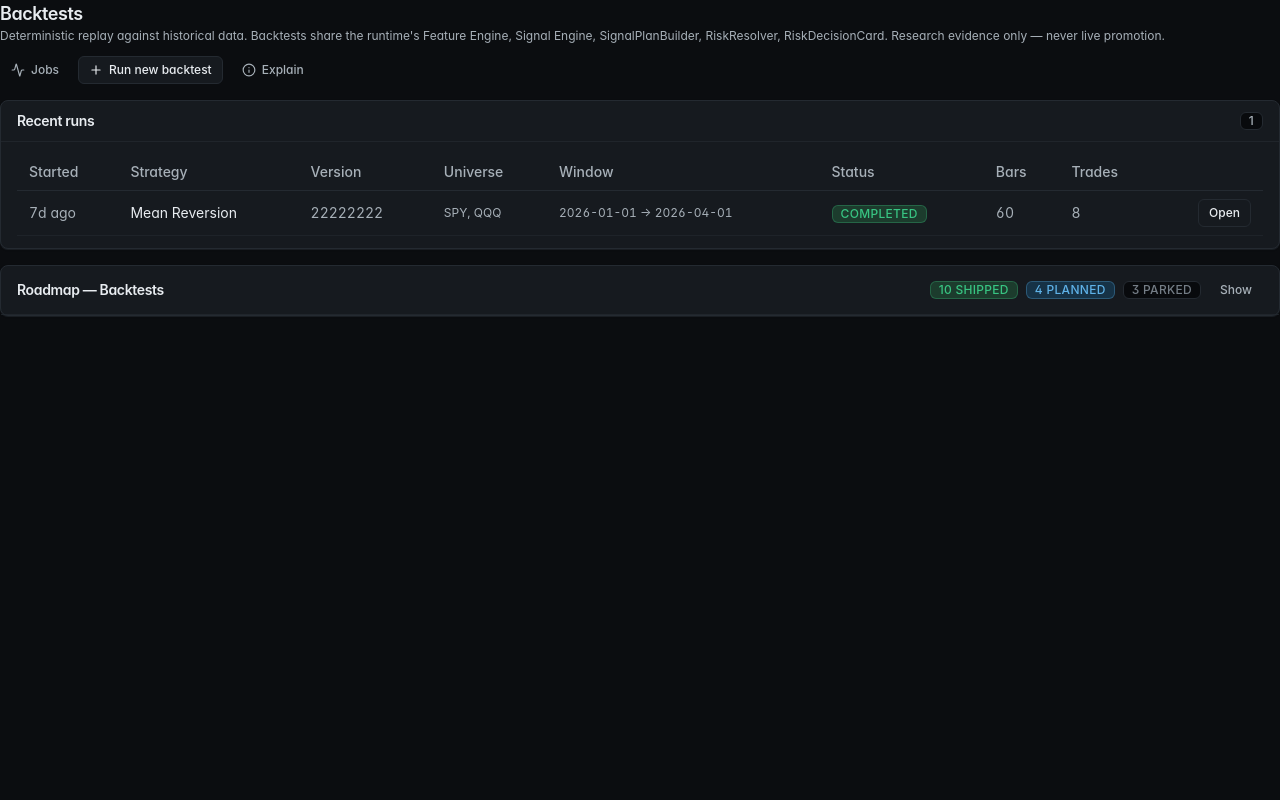
it: <Backtests /> › opens detail and renders metrics + per-regime + trade ledger from passthrough payloads
The width and height of the screenshot is (1280, 800).
Expected: the text "Mean Reversion" is shown, [118,190,299,236]
Click the button "Open" at (1225, 213), box [1198,199,1251,227]
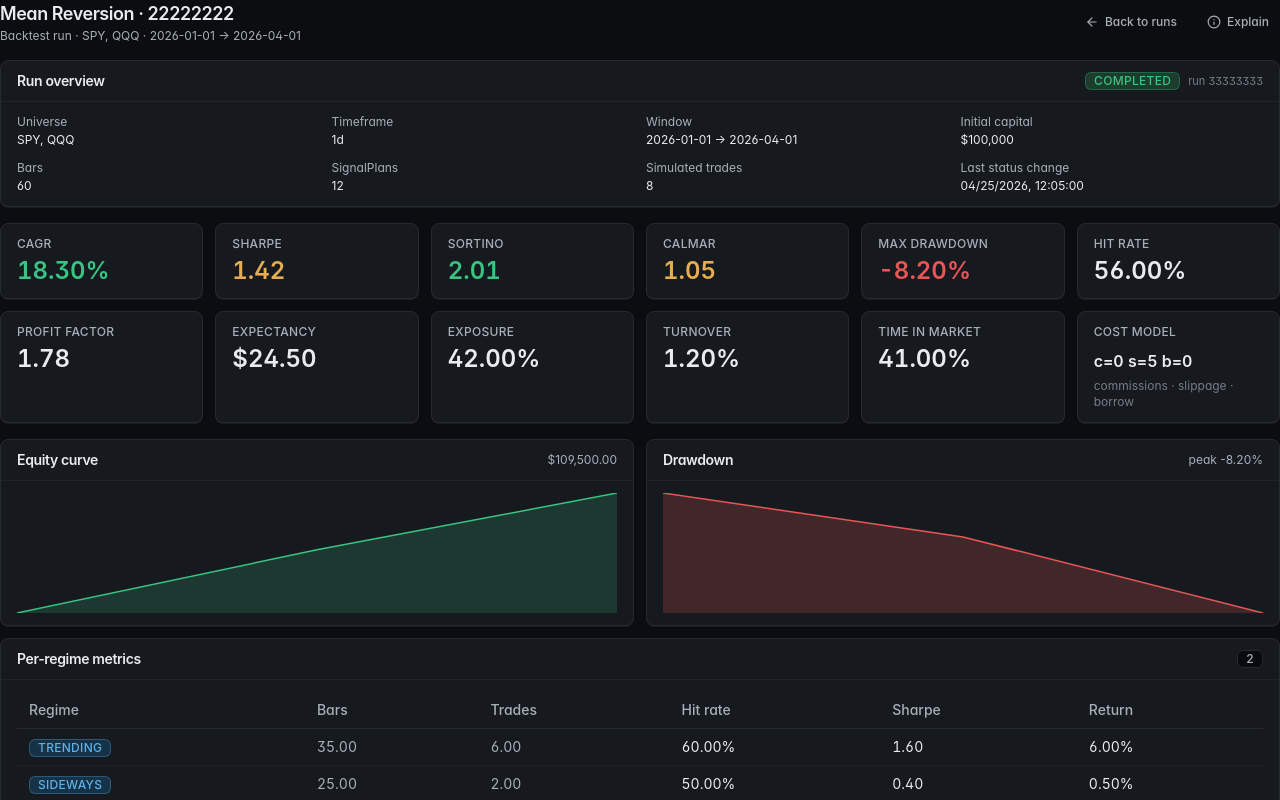
Expected: the text "1.42" is shown, [232,256,285,285]
Expected: the text "sideways" is shown, [29,776,111,794]
